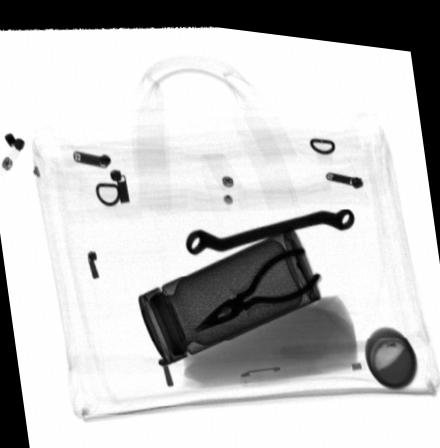Pliers: (192, 239, 322, 329)
Wrench: (185, 199, 354, 251)
